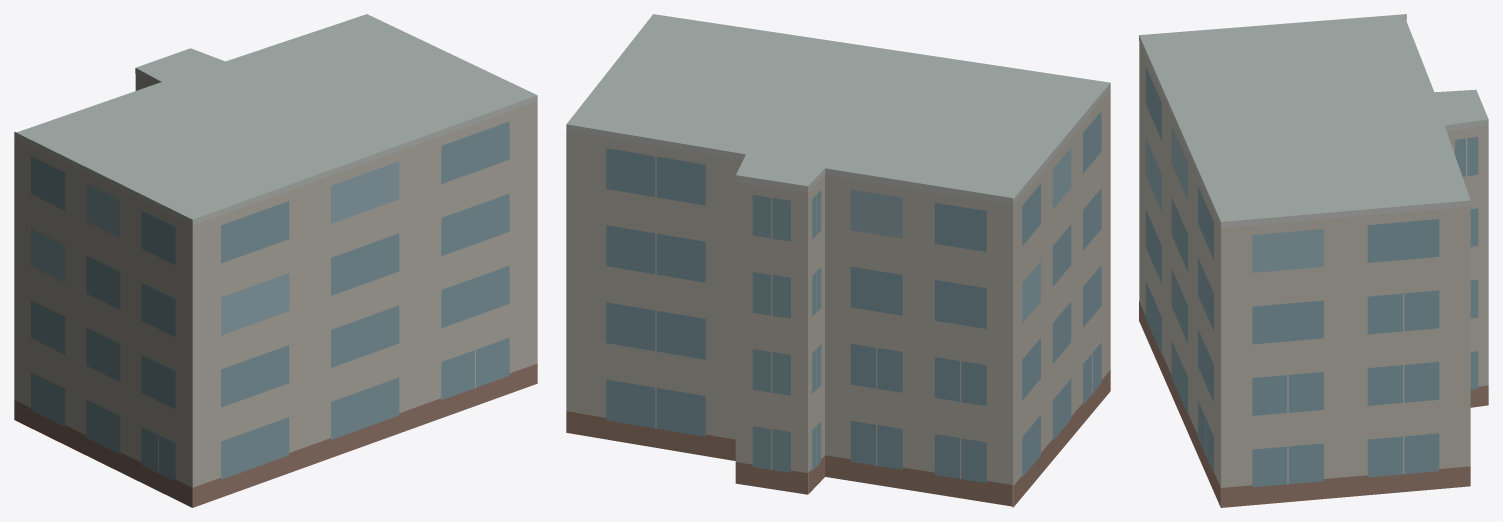
The model's file is survey-upis-32817605.glb.
3 views of the same model, side by side, from view 1: azimuth 30°, elevation 25°; view 2: azimuth 150°, elevation 25°; view 3: azimuth 270°, elevation 25° (orthographic). The views are drawn at different scales.
Parts seen in each view (by area): view 1: survey-upis-32817605.tmp; view 2: survey-upis-32817605.tmp; view 3: survey-upis-32817605.tmp.
Part boxes in pixels (x1,y1,x2,y2): survey-upis-32817605.tmp: [14, 14, 537, 507]; survey-upis-32817605.tmp: [566, 14, 1110, 507]; survey-upis-32817605.tmp: [1139, 14, 1488, 507].
Bounding box in the file's own units: 17.96 × 11.5 × 12.75.
